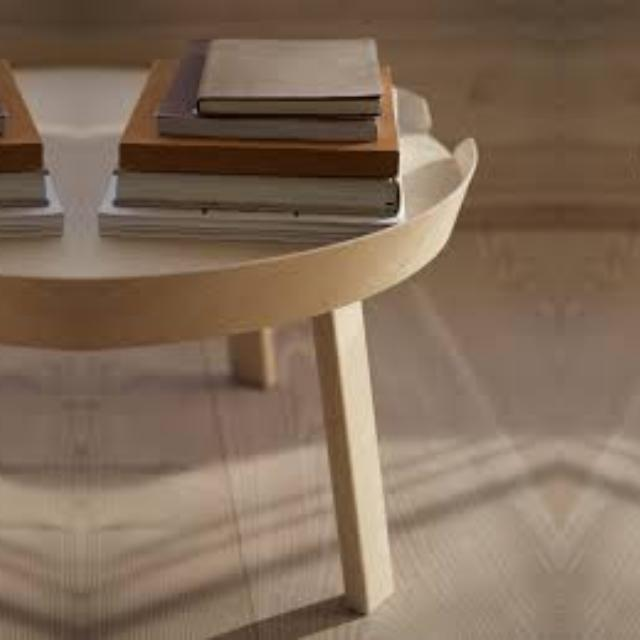obstacle: (123, 29, 481, 611), (0, 29, 37, 611), (638, 29, 640, 611)
